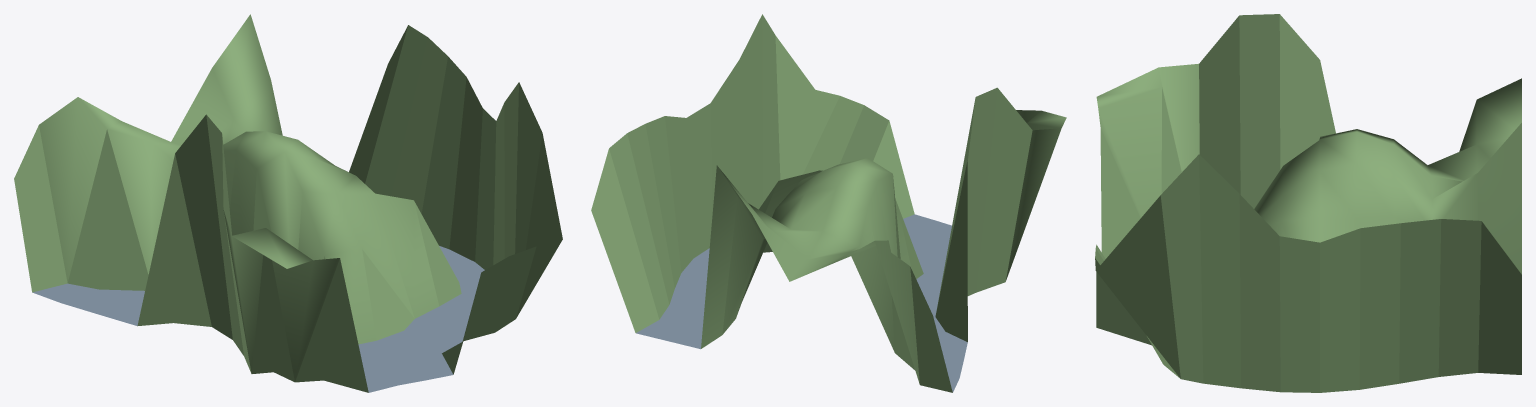
File: level_1.fbx
The picture shows the model from 3 angles, left to right: view 1: azimuth 30°, elevation 25°; view 2: azimuth 150°, elevation 25°; view 3: azimuth 270°, elevation 25°; orthographic projection. The views are drawn at different scales.
Parts seen in each view (by area): view 1: pPlane1; view 2: pPlane1; view 3: pPlane1.
Part boxes in pixels (box(x1,y1,x2,y2)): pPlane1: box(14, 14, 562, 392); pPlane1: box(591, 14, 1066, 392); pPlane1: box(1095, 14, 1521, 392).
Bounding box in the file's own units: 36.86 × 21.8 × 35.72.
